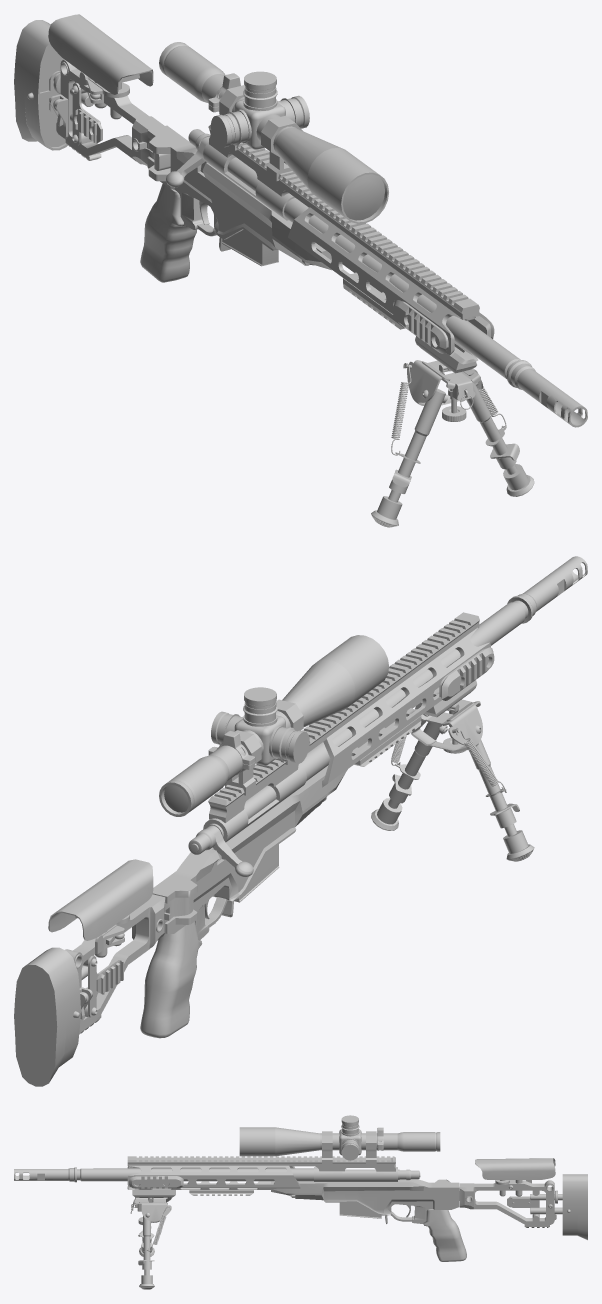
The model's file is Sniper 1.fbx.
3 renders of one model, top to bottom at view 1: azimuth 30°, elevation 25°; view 2: azimuth 150°, elevation 25°; view 3: azimuth 270°, elevation 25°, orthographic. The views are drawn at different scales.
Visible parts, largest first — view 1: BodyE7, ScopeE7, Barrel_CoverE7, Stock_Upper_CoverE7, Front_Scope_HolderE7, GripE7, Main_StockE7, BarrelE7, Back_StockE7, Stand_Leg_2E7, Stand_Leg_1E7, MuzzleE7 (+16 smaller); view 2: ScopeE7, BodyE7, Rubber_BackE7, Barrel_CoverE7, GripE7, Stock_Upper_CoverE7, Main_StockE7, Front_Scope_HolderE7, BarrelE7, Rear_Scope_HolderE7, Stand_Leg_1E7, Stand_Leg_2E7 (+13 smaller); view 3: BodyE7, ScopeE7, Barrel_CoverE7, Main_StockE7, BarrelE7, Stock_Upper_CoverE7, Front_Scope_HolderE7, GripE7, Rear_Scope_HolderE7, Back_StockE7, Bold_CoverE7, MuzzleE7 (+13 smaller).
Part boxes in pixels (x1,y1,x2,y2): BodyE7: (147, 125, 331, 270); ScopeE7: (159, 42, 388, 223); Barrel_CoverE7: (288, 207, 490, 364); Stock_Upper_CoverE7: (48, 14, 153, 94); Front_Scope_HolderE7: (309, 195, 479, 319); GripE7: (140, 184, 196, 282); Main_StockE7: (60, 59, 170, 170); BarrelE7: (284, 198, 520, 378); Back_StockE7: (24, 27, 67, 150); Stand_Leg_2E7: (371, 388, 445, 527); Stand_Leg_1E7: (464, 382, 534, 496); MuzzleE7: (506, 360, 587, 427); ScopeE7: (159, 635, 388, 816); BodyE7: (153, 765, 347, 939); Rubber_BackE7: (14, 957, 66, 1086); Barrel_CoverE7: (322, 627, 490, 787); GripE7: (140, 921, 202, 1038); Stock_Upper_CoverE7: (48, 859, 153, 940); Main_StockE7: (65, 894, 193, 1028); Front_Scope_HolderE7: (311, 612, 479, 737); BarrelE7: (299, 600, 528, 780); Rear_Scope_HolderE7: (208, 724, 327, 822); Stand_Leg_1E7: (371, 722, 441, 830); Stand_Leg_2E7: (469, 740, 534, 861); BodyE7: (271, 1179, 459, 1223); ScopeE7: (239, 1127, 440, 1156); Barrel_CoverE7: (127, 1165, 300, 1189); Main_StockE7: (459, 1180, 554, 1224); BarrelE7: (77, 1168, 313, 1181); Stock_Upper_CoverE7: (475, 1158, 555, 1179); Front_Scope_HolderE7: (127, 1156, 289, 1166); GripE7: (423, 1209, 466, 1261); Rear_Scope_HolderE7: (289, 1156, 395, 1171); Back_StockE7: (562, 1174, 577, 1235); Bold_CoverE7: (314, 1167, 397, 1181); MuzzleE7: (14, 1167, 76, 1182).
Size of the model in its own units: 18.84 by 33.02 by 112.
